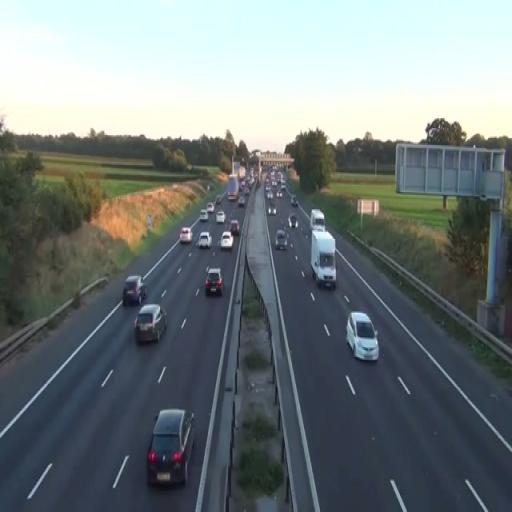Car: (146, 409, 196, 488), (345, 312, 379, 362), (134, 304, 168, 344), (122, 275, 146, 307), (204, 266, 224, 296), (274, 230, 288, 251), (220, 231, 234, 251), (198, 231, 212, 250), (179, 227, 193, 244), (230, 219, 240, 236), (215, 210, 226, 224)
Truck: (310, 230, 336, 289), (227, 174, 239, 201)
